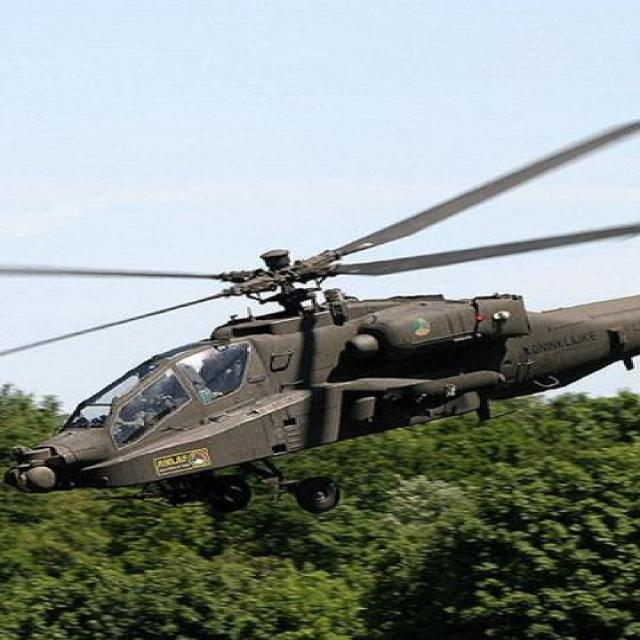MIL_HELO: (3, 120, 640, 511)
